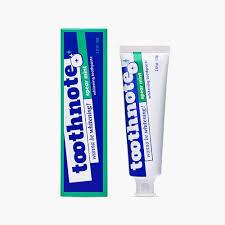toothpaste: (117, 42, 175, 197)
